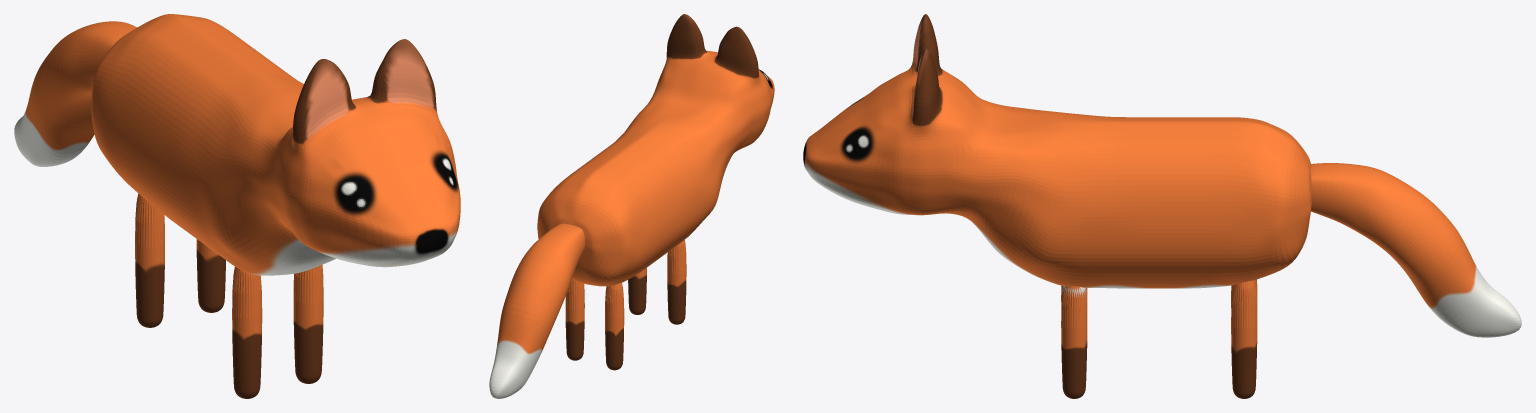
File: fox.fbx
3 renders of one model, left to right at view 1: azimuth 30°, elevation 25°; view 2: azimuth 150°, elevation 25°; view 3: azimuth 270°, elevation 25°, orthographic. The views are drawn at different scales.
Visible parts, largest first — view 1: body; view 2: body; view 3: body.
Boxes of the visible parts, bbox=[...] form: body: bbox=[14, 14, 460, 398]; body: bbox=[489, 14, 774, 398]; body: bbox=[803, 14, 1521, 398].
Bounding box in the file's own units: 103 × 250 × 463.
Materials: 1 (1 with a texture image).
